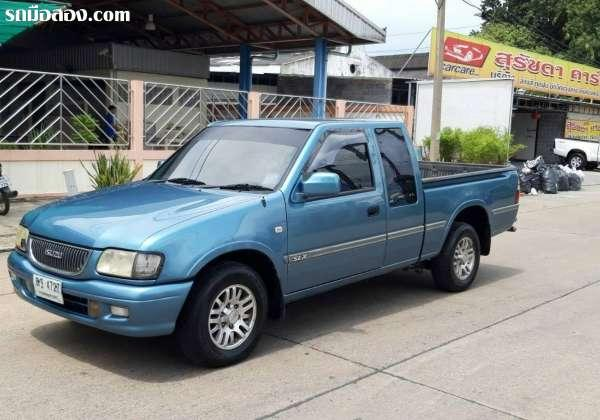pickup: (5, 115, 522, 369)
